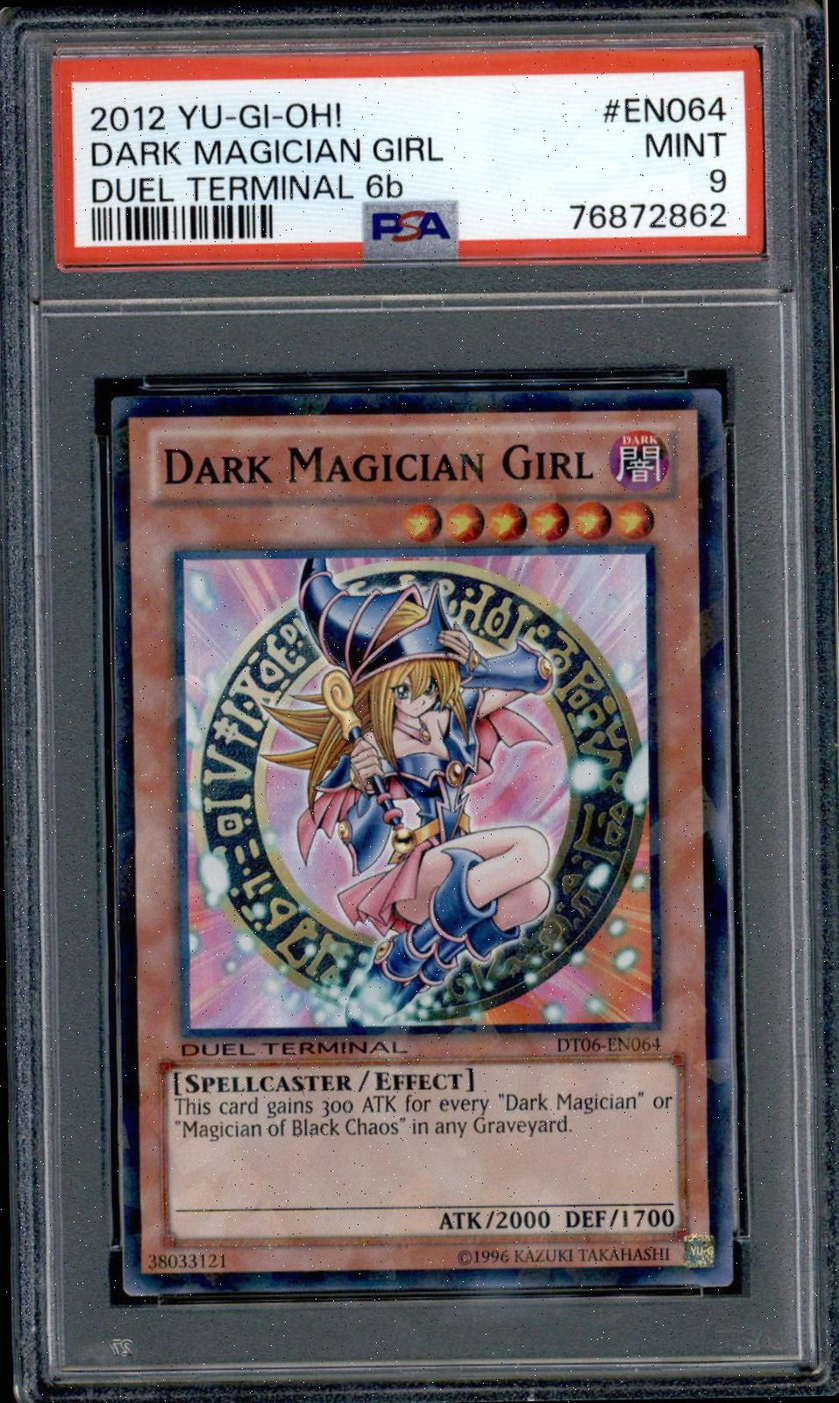card-2UtV: (109, 387, 733, 1297)
